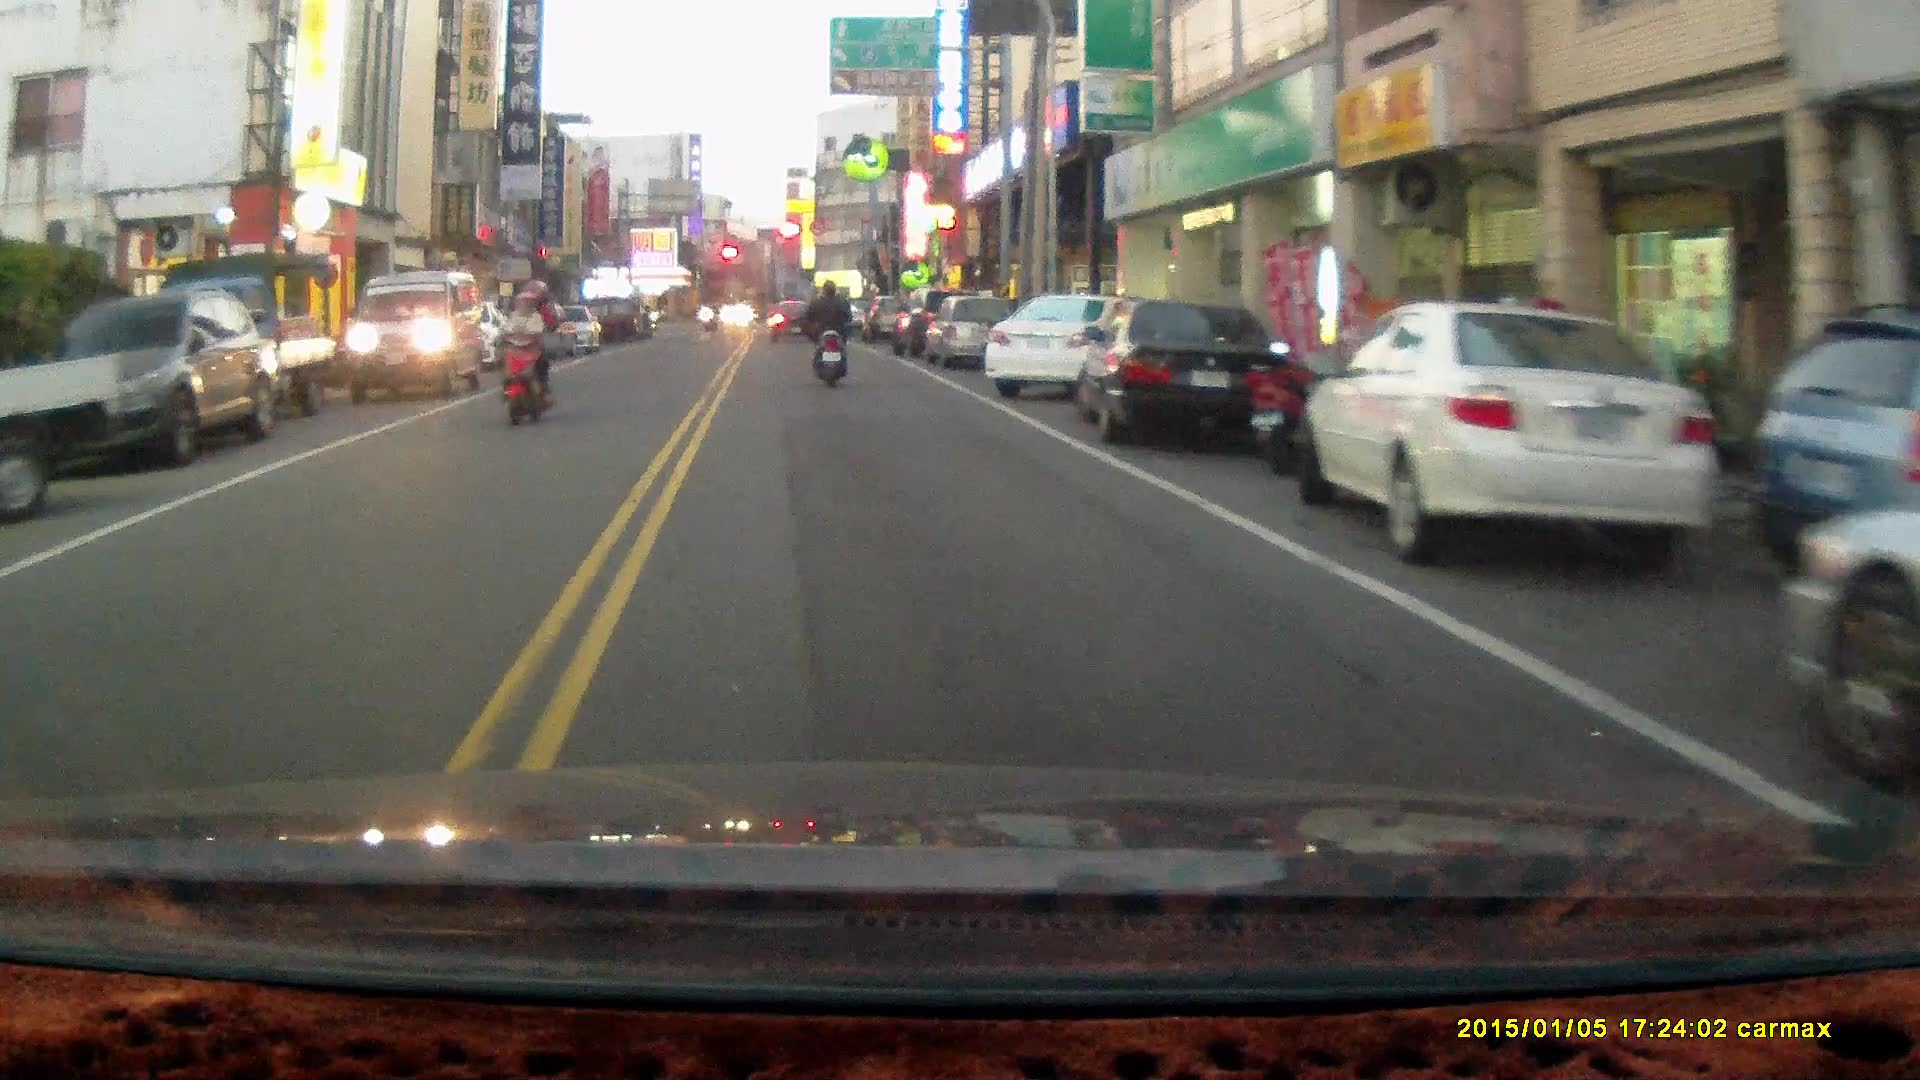rider: (496, 274, 556, 426), (805, 278, 851, 392)
vehicle: (1283, 301, 1736, 565), (26, 291, 265, 484), (1787, 479, 1920, 798), (134, 250, 340, 431), (1071, 300, 1284, 456), (979, 291, 1161, 400), (342, 270, 484, 402), (922, 292, 1021, 372)
